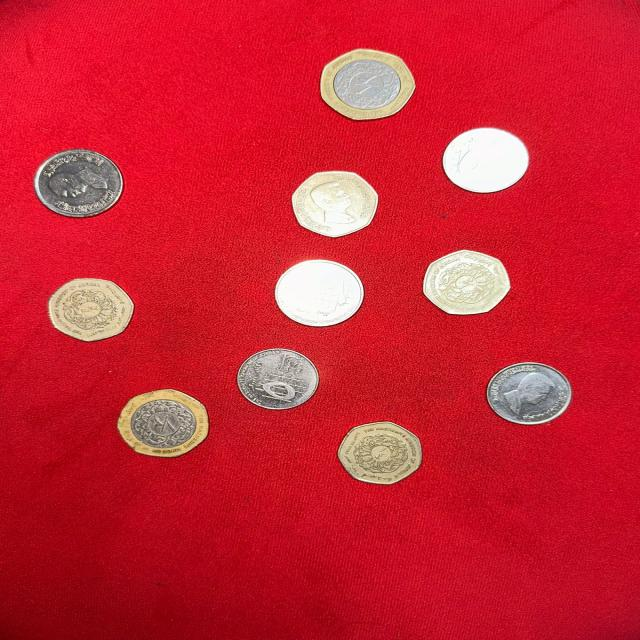10-coins: (273, 258, 368, 330), (32, 148, 125, 219)
25-coins: (334, 419, 429, 487), (47, 276, 139, 346), (288, 171, 382, 238), (420, 249, 515, 315)
5-coins: (484, 359, 572, 426), (441, 127, 531, 192), (236, 347, 323, 411)
50-coins: (316, 47, 420, 124), (113, 388, 210, 458)
